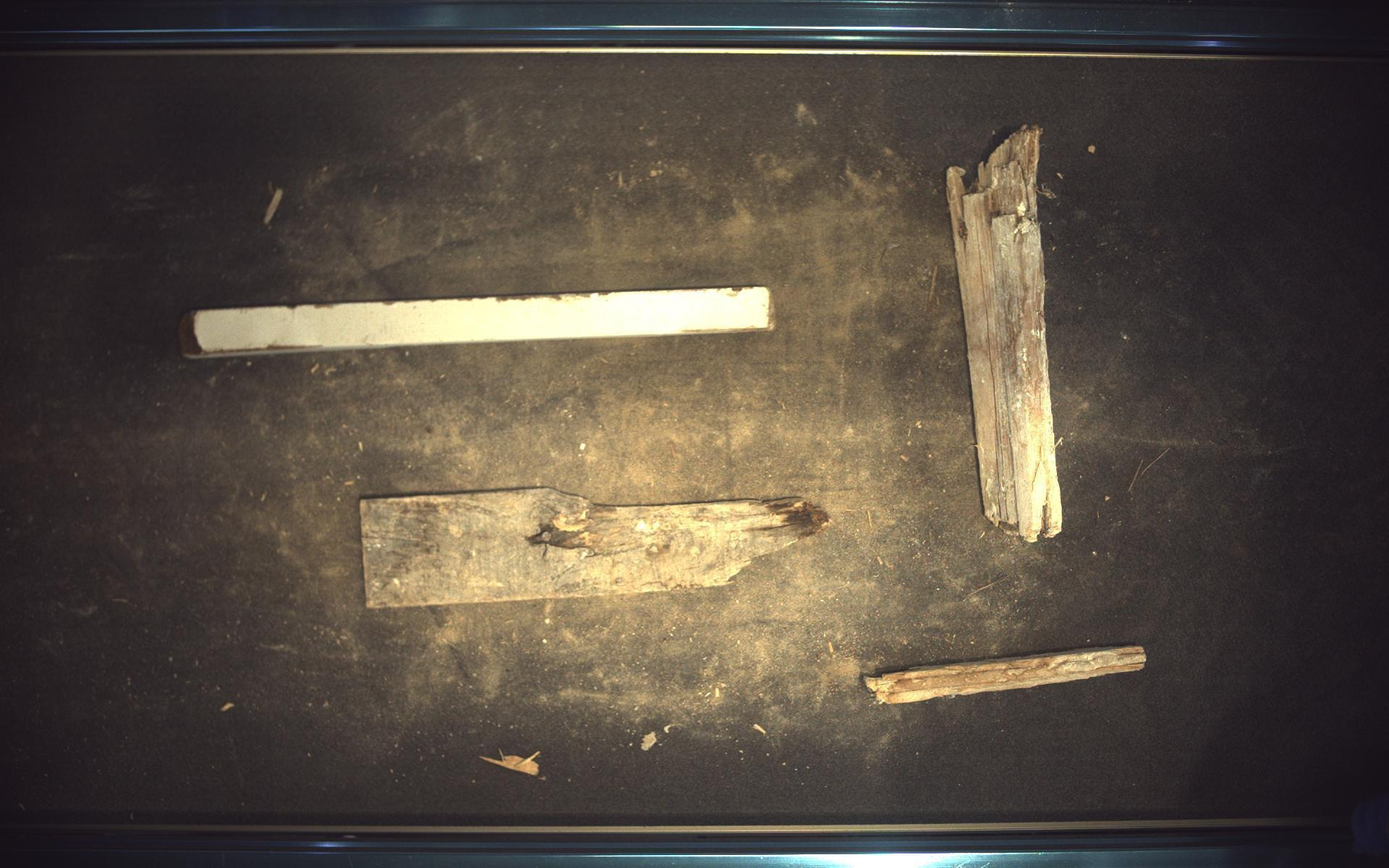wood: (360, 488, 831, 609), (948, 124, 1065, 542), (179, 286, 775, 357), (867, 647, 1150, 705)
